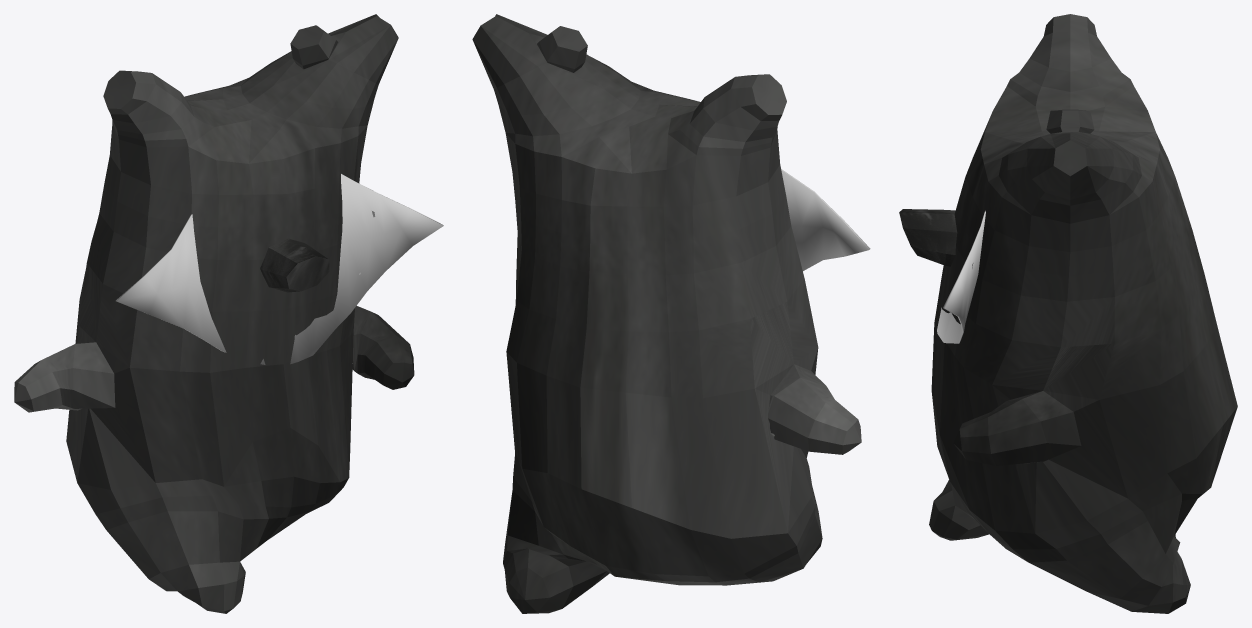
The model's file is frame_0013.obj.
The picture shows the model from 3 angles, left to right: view 1: azimuth 30°, elevation 25°; view 2: azimuth 150°, elevation 25°; view 3: azimuth 270°, elevation 25°; orthographic projection. The views are drawn at different scales.
Visible parts, largest first — view 1: korok, leaf, nose; view 2: korok, leaf; view 3: korok, nose, leaf.
Part boxes in pixels (bbox=[...]): korok: bbox=[14, 14, 414, 613]; leaf: bbox=[116, 174, 443, 364]; nose: bbox=[260, 238, 329, 292]; korok: bbox=[472, 14, 861, 613]; leaf: bbox=[781, 169, 870, 270]; korok: bbox=[929, 14, 1237, 613]; nose: bbox=[899, 209, 957, 266]; leaf: bbox=[937, 210, 985, 343].
Size of the model in its own units: 1.62 by 2.12 by 1.26.
